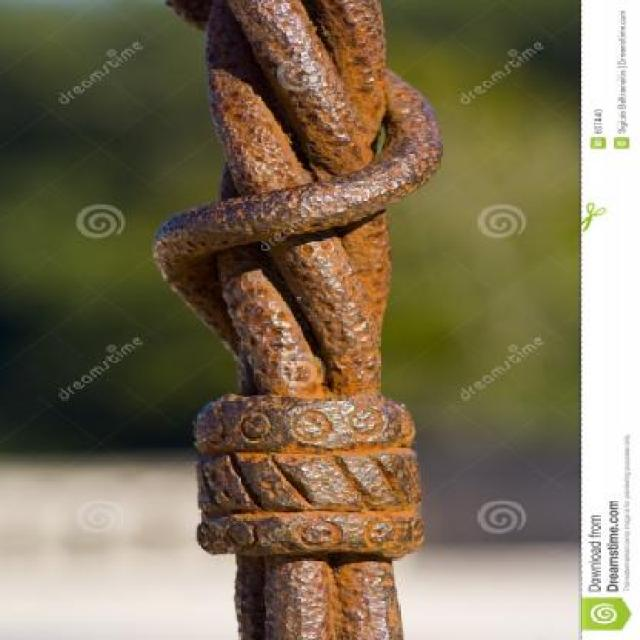corrosion: (166, 0, 445, 640)
